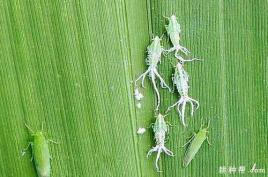Delphacidae: (135, 33, 172, 111), (165, 61, 201, 127), (20, 121, 59, 177), (158, 14, 200, 62), (144, 111, 175, 172), (179, 118, 213, 169)
